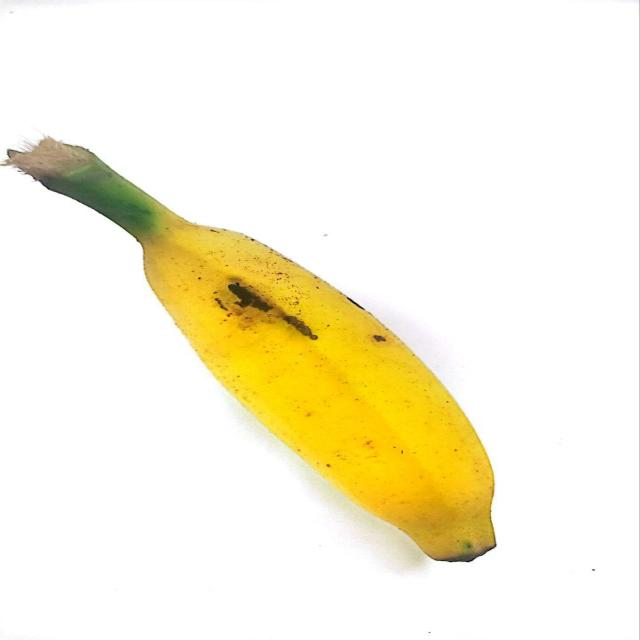fresh_banana: (129, 220, 487, 558)
